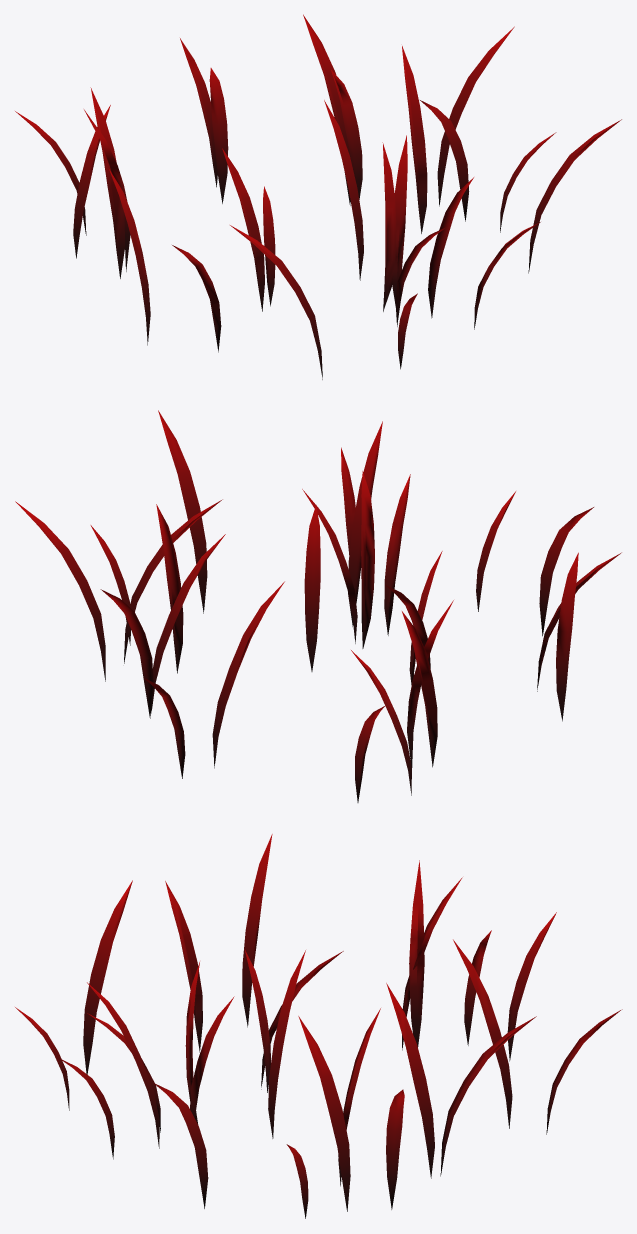
Rendered from grass.fbx.
The picture shows the model from 3 angles, top to bottom: view 1: azimuth 30°, elevation 25°; view 2: azimuth 150°, elevation 25°; view 3: azimuth 270°, elevation 25°; orthographic projection. The views are drawn at different scales.
Visible parts, largest first — view 1: Grass; view 2: Grass; view 3: Grass.
Part boxes in pixels (x1=…): Grass: x1=15, y1=14, x2=621, y2=379; Grass: x1=15, y1=410, x2=621, y2=802; Grass: x1=15, y1=834, x2=622, y2=1218.
Bounding box in the file's own units: 3.29 × 1.19 × 3.58.
